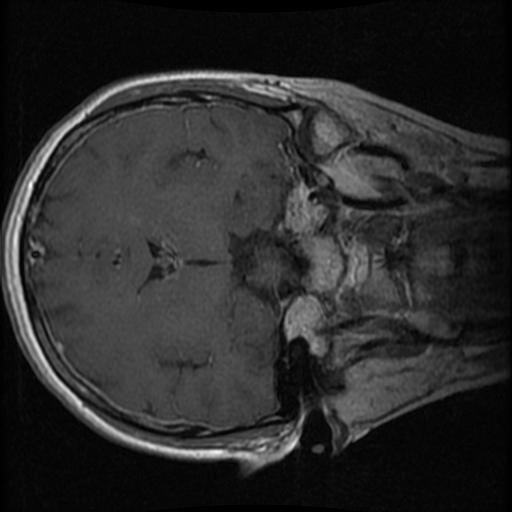pituitary tumour: (249, 243, 293, 292)
